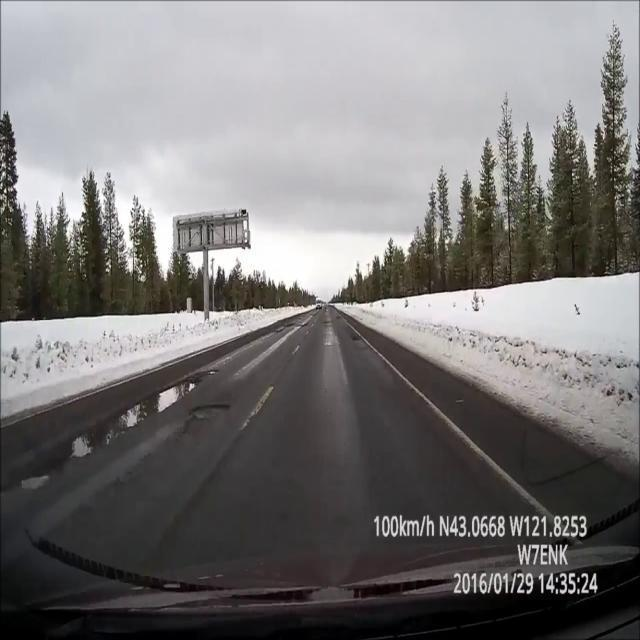pothole: (144, 379, 198, 415), (188, 397, 234, 424), (201, 368, 219, 378), (351, 335, 361, 343), (284, 322, 295, 328), (300, 323, 309, 328), (323, 319, 330, 324), (335, 316, 342, 320)
